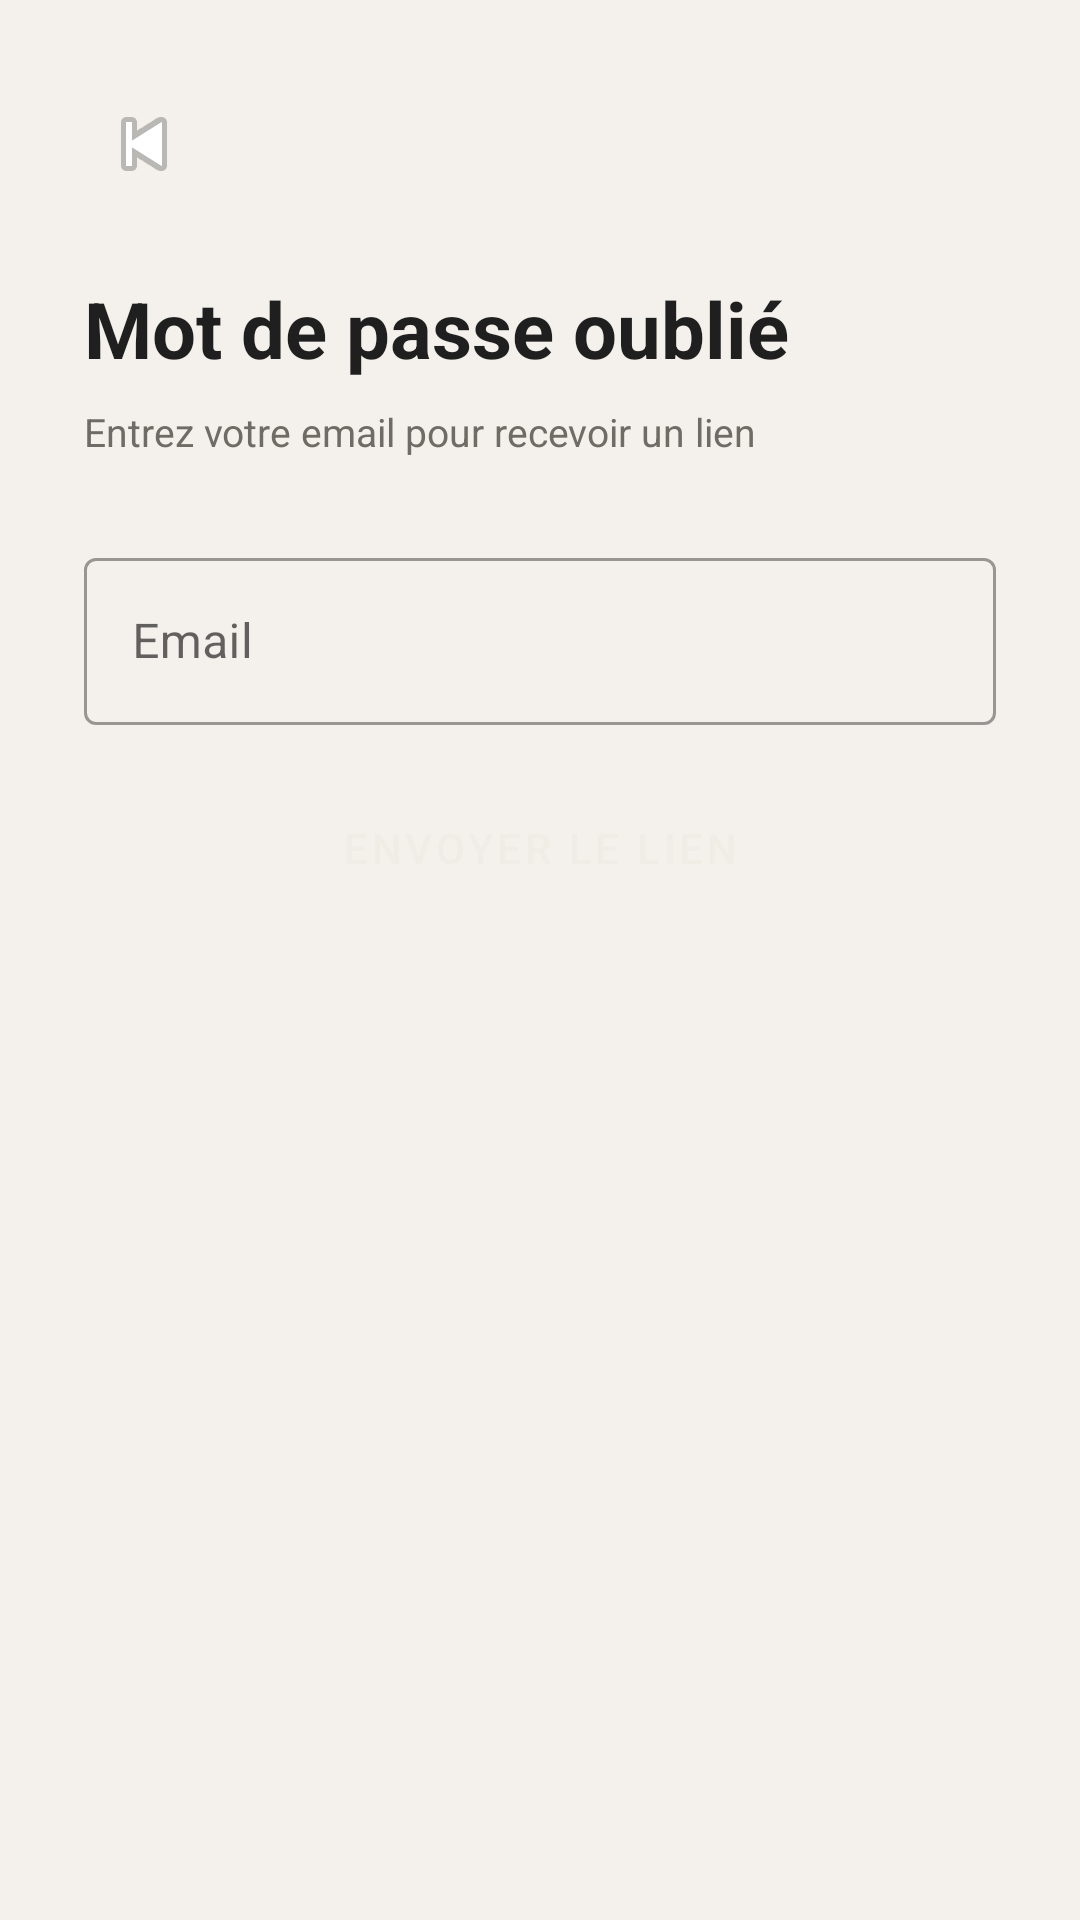

Where to tap for icons on this 1080×1920 app screen, as (x=x, y=y):
previous: (x=144, y=144)
